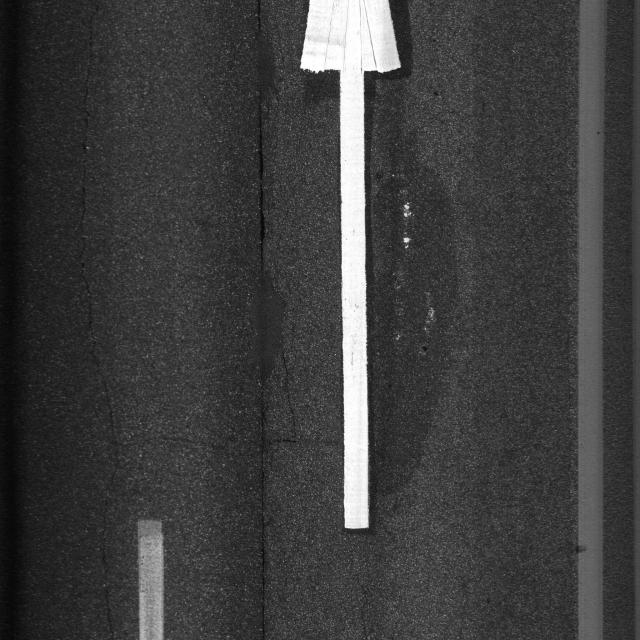forward: (235, 1, 608, 591)
